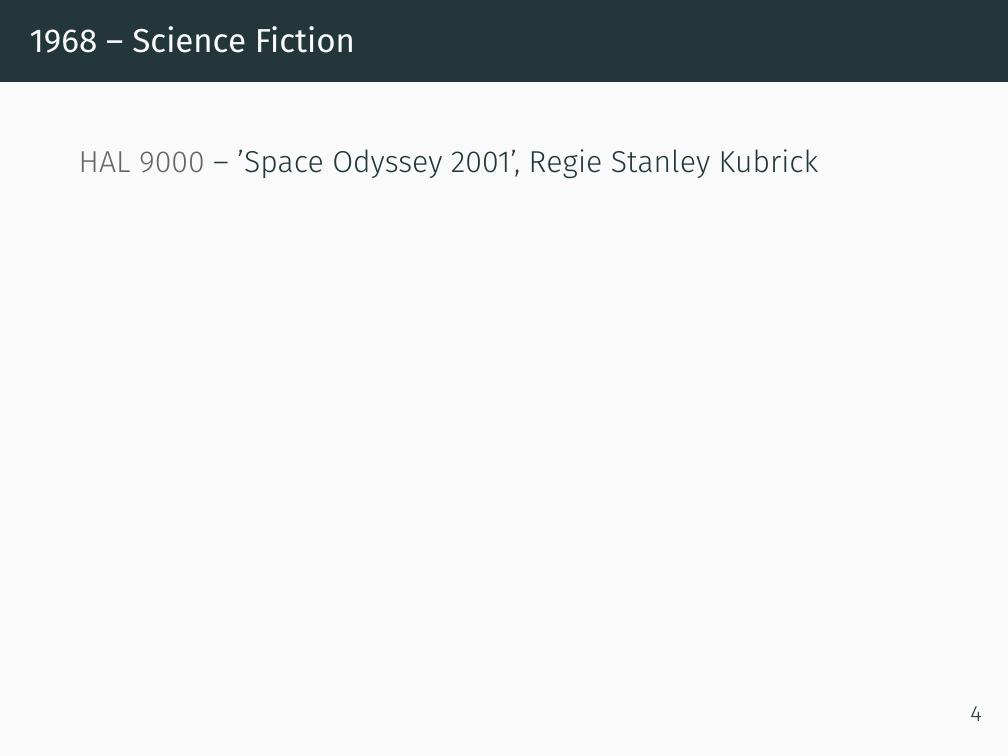Title: (27, 19, 358, 68)
